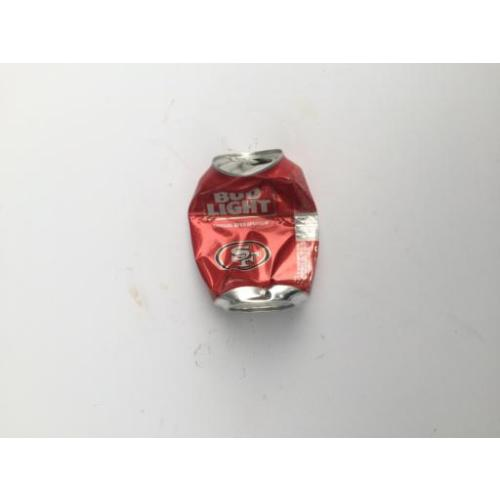metal: (189, 151, 320, 311)
